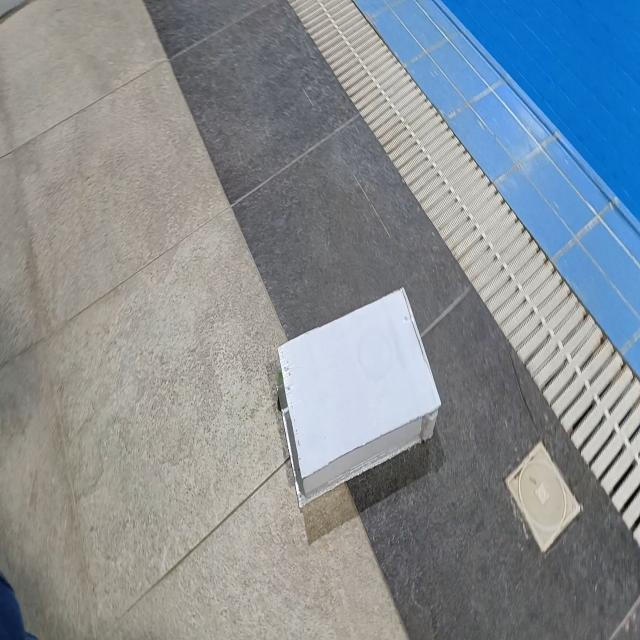Cuboid: (276, 285, 442, 509)
